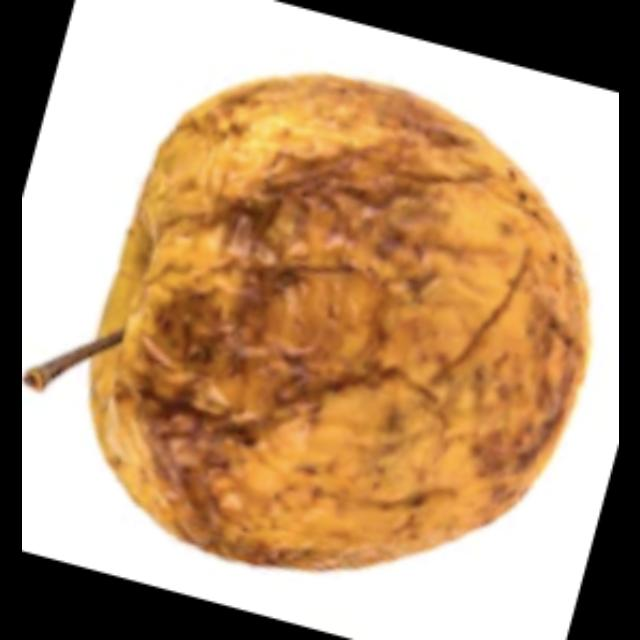Apel Tidak Segar: (70, 65, 592, 580)
